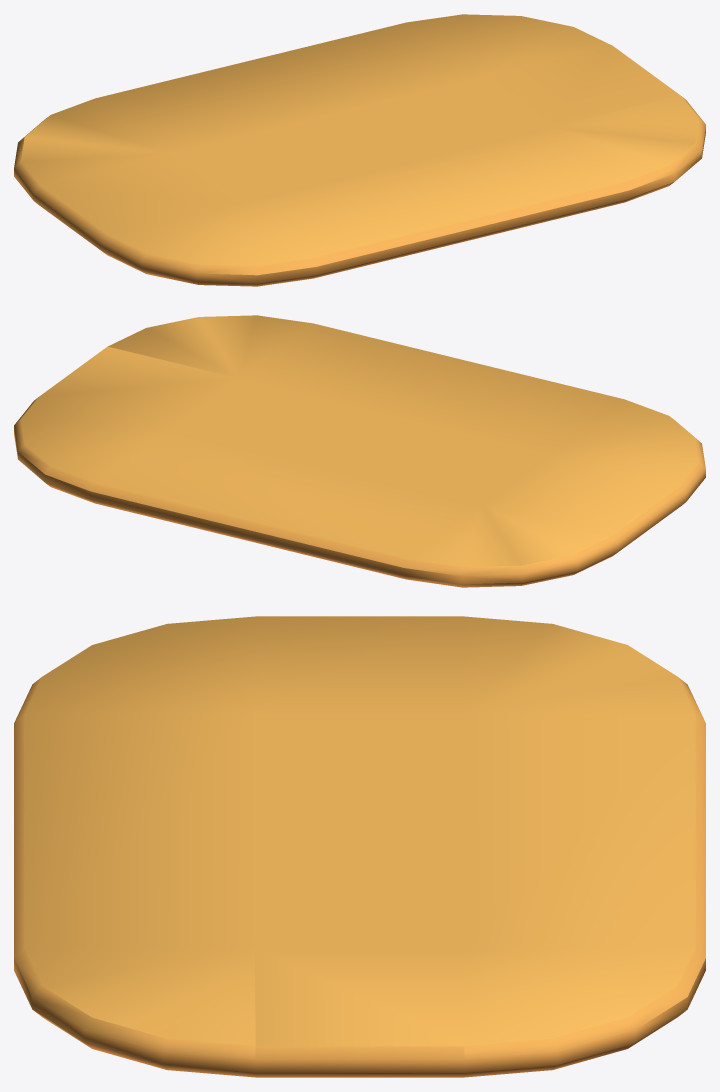
File: rug-round.glb
3 views of the same model, one above another, from view 1: azimuth 30°, elevation 25°; view 2: azimuth 150°, elevation 25°; view 3: azimuth 270°, elevation 25° (orthographic). The views are drawn at different scales.
Visible parts, largest first — view 1: rug_oval_A; view 2: rug_oval_A; view 3: rug_oval_A.
Boxes of the visible parts, <box> form: rug_oval_A: <box>14,14,705,286</box>; rug_oval_A: <box>14,315,705,587</box>; rug_oval_A: <box>14,616,705,1077</box>.
Bounding box in the file's own units: 1.6 × 0.0533 × 1.07.
Materials: 1 (1 with a texture image).
